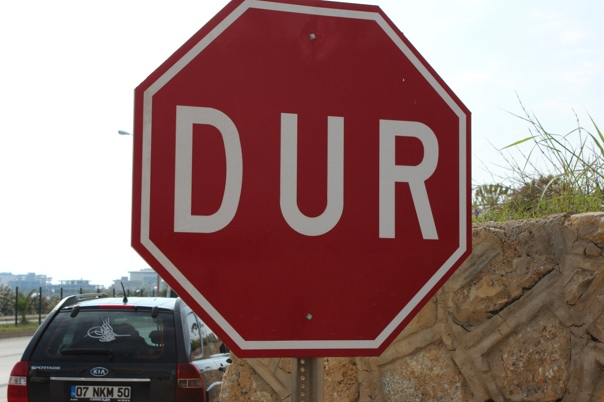dur: (125, 2, 471, 349)
otomobil: (7, 258, 219, 401)
